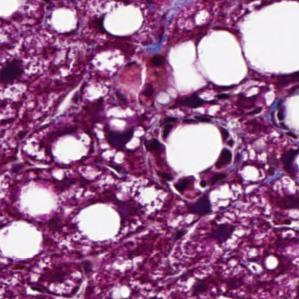inflammation: (164, 173, 225, 216), (215, 128, 236, 169)
